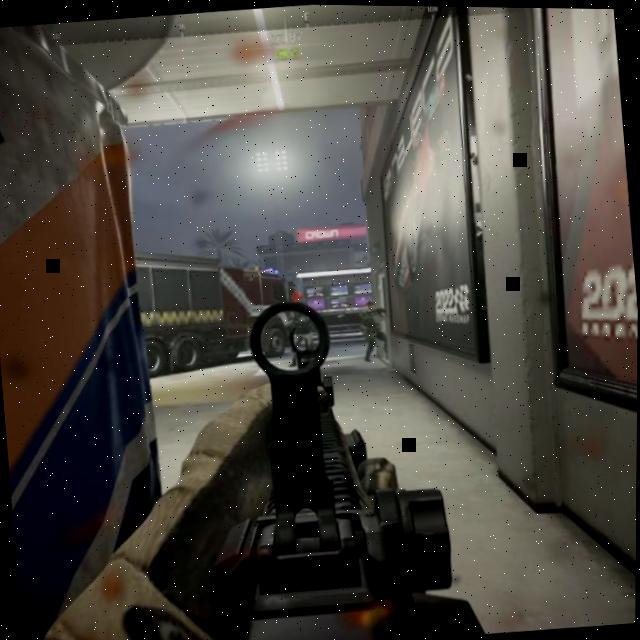MW2_body: (357, 297, 389, 362), (286, 289, 315, 350)
